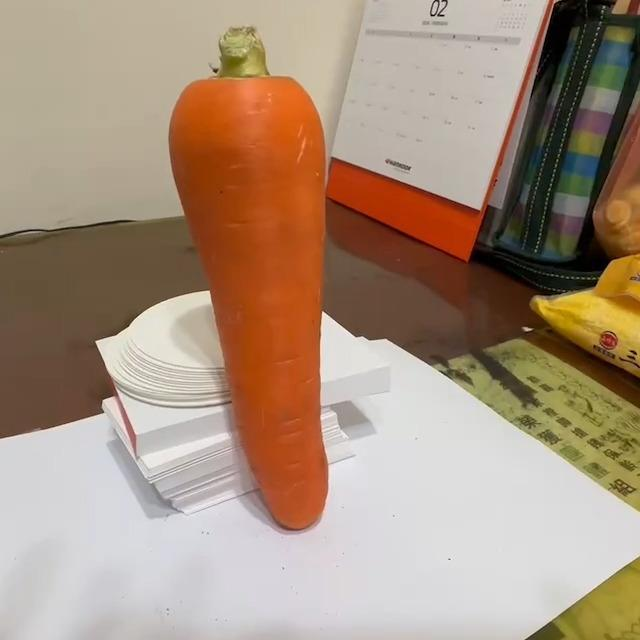carrot: (165, 26, 343, 534)
